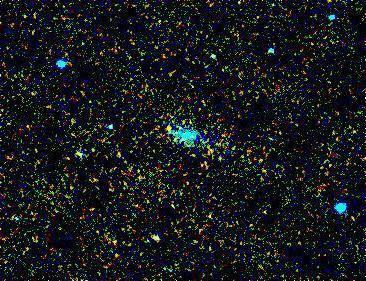star: (154, 114, 184, 144)
